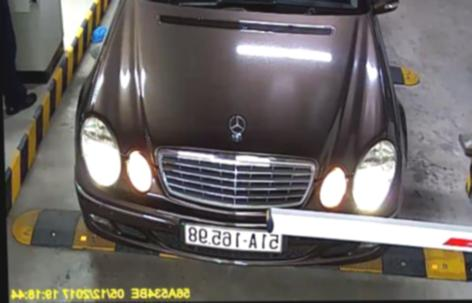License_Plate: (180, 224, 290, 254)
